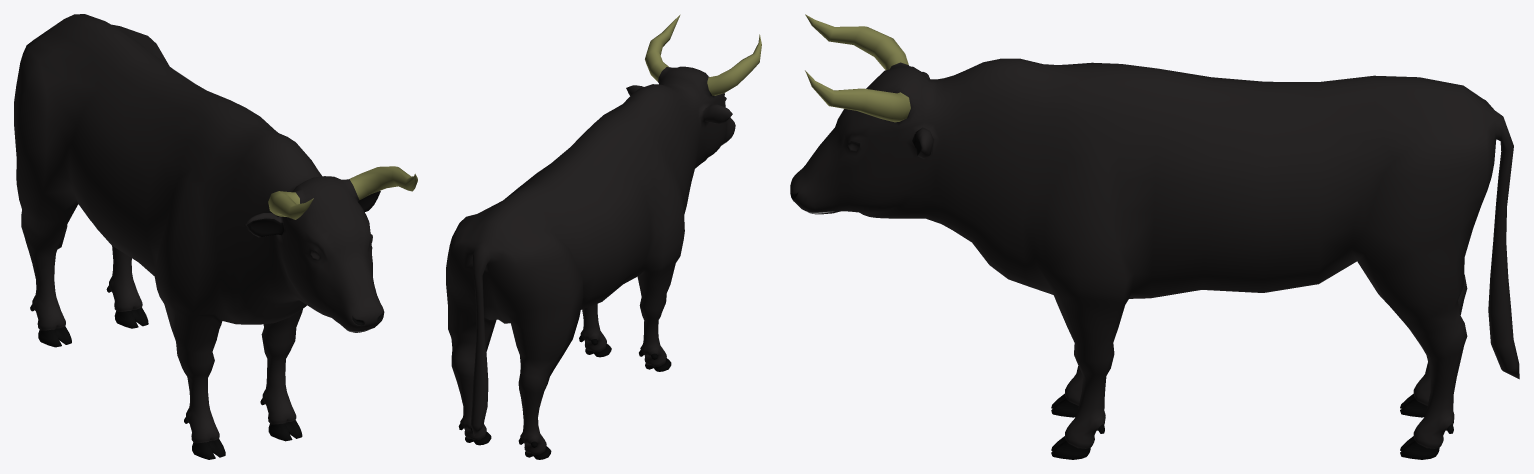
The model's file is bull_bull.obj.
3 views of the same model, side by side, from view 1: azimuth 30°, elevation 25°; view 2: azimuth 150°, elevation 25°; view 3: azimuth 270°, elevation 25° (orthographic). The views are drawn at different scales.
Parts seen in each view (by area): view 1: bull; view 2: bull; view 3: bull.
Boxes of the visible parts, x1,y1,x2,y2 form: bull: (14,14,417,459); bull: (446,14,761,459); bull: (790,14,1519,459).
Bounding box in the file's own units: 0.7446 × 1.55 × 2.63.
